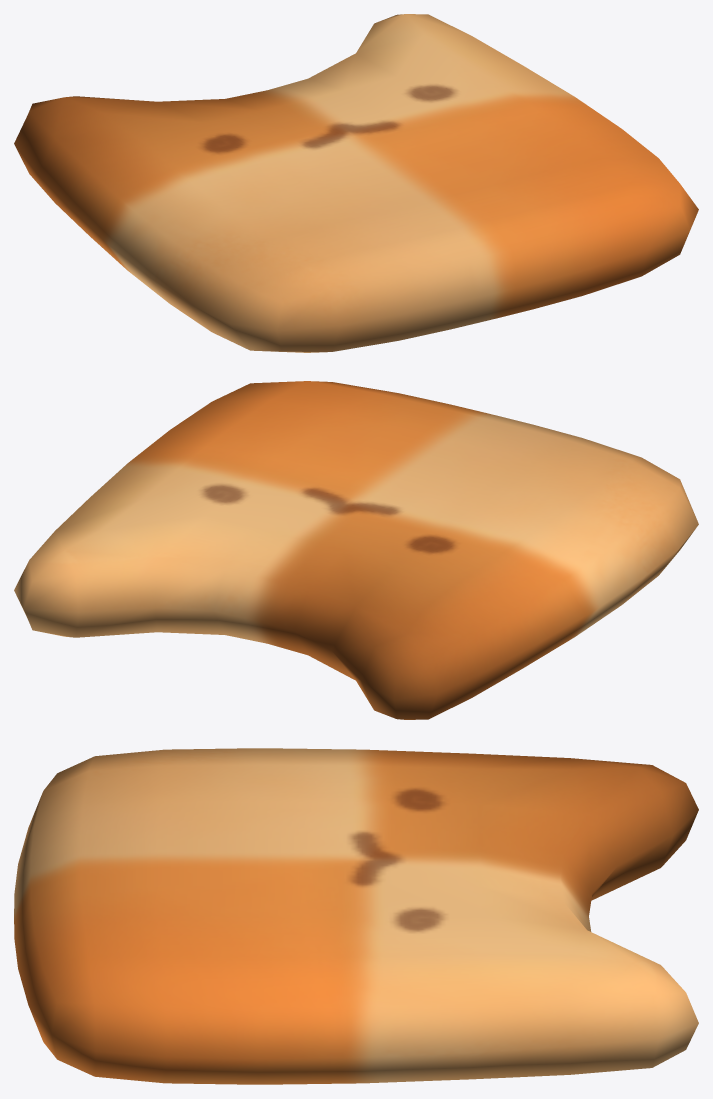
File: item_cookies.fbx
3 renders of one model, top to bottom at view 1: azimuth 30°, elevation 25°; view 2: azimuth 150°, elevation 25°; view 3: azimuth 270°, elevation 25°, orthographic. The views are drawn at different scales.
Parts seen in each view (by area): view 1: cookie; view 2: cookie; view 3: cookie.
Boxes of the visible parts, bbox=[...] form: cookie: bbox=[14, 14, 698, 352]; cookie: bbox=[14, 381, 698, 719]; cookie: bbox=[14, 748, 698, 1084].
Size of the model in its own units: 212 by 40 by 216.
